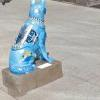Statue: (5, 1, 63, 79)
